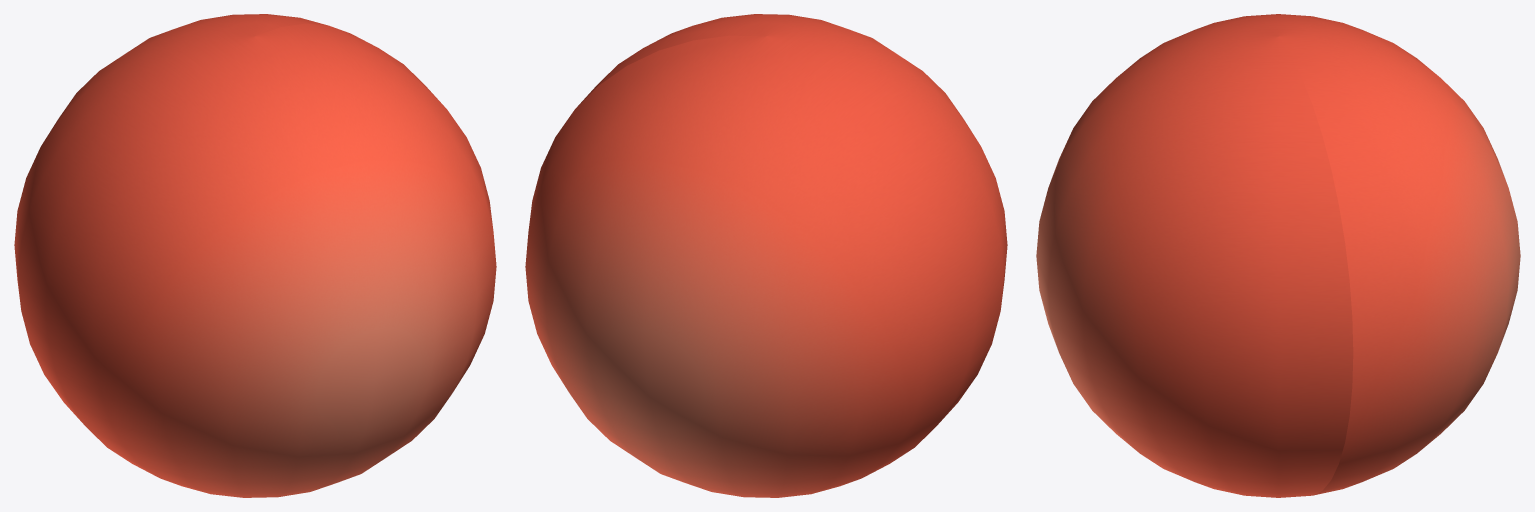
File: Ball.obj
3 views of the same model, side by side, from view 1: azimuth 30°, elevation 25°; view 2: azimuth 150°, elevation 25°; view 3: azimuth 270°, elevation 25° (orthographic).
Parts seen in each view (by area): view 1: default.001; view 2: default.001; view 3: default.001.
Part boxes in pixels (box(x1,y1,x2,y2)): default.001: box(14, 14, 496, 497); default.001: box(525, 14, 1007, 497); default.001: box(1036, 14, 1520, 497).
Bounding box in the file's own units: 0.8 × 0.8 × 0.8.
1 material, 1 textured.
